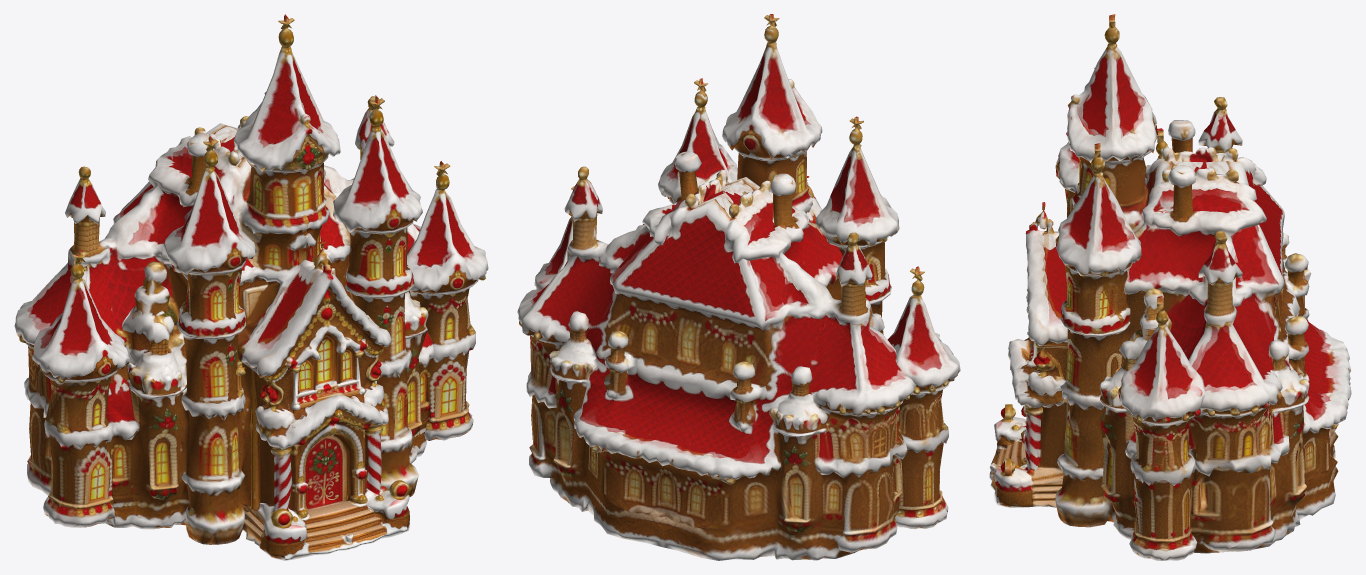
File: AW-XMAS-CASTLE-001-v0.2.glb
3 renders of one model, left to right at view 1: azimuth 30°, elevation 25°; view 2: azimuth 150°, elevation 25°; view 3: azimuth 270°, elevation 25°, orthographic. The views are drawn at different scales.
Visible parts, largest first — view 1: AW-XMAS-CASTLE-001_meter_ground_pivot; view 2: AW-XMAS-CASTLE-001_meter_ground_pivot; view 3: AW-XMAS-CASTLE-001_meter_ground_pivot.
Boxes of the visible parts, box(x1,y1,x2,y2) form: AW-XMAS-CASTLE-001_meter_ground_pivot: box(14, 14, 488, 560); AW-XMAS-CASTLE-001_meter_ground_pivot: box(517, 14, 960, 560); AW-XMAS-CASTLE-001_meter_ground_pivot: box(989, 14, 1351, 560).
Bounding box in the file's own units: 28.68 × 30 × 21.24.
Materials: 1 (1 with a texture image).
